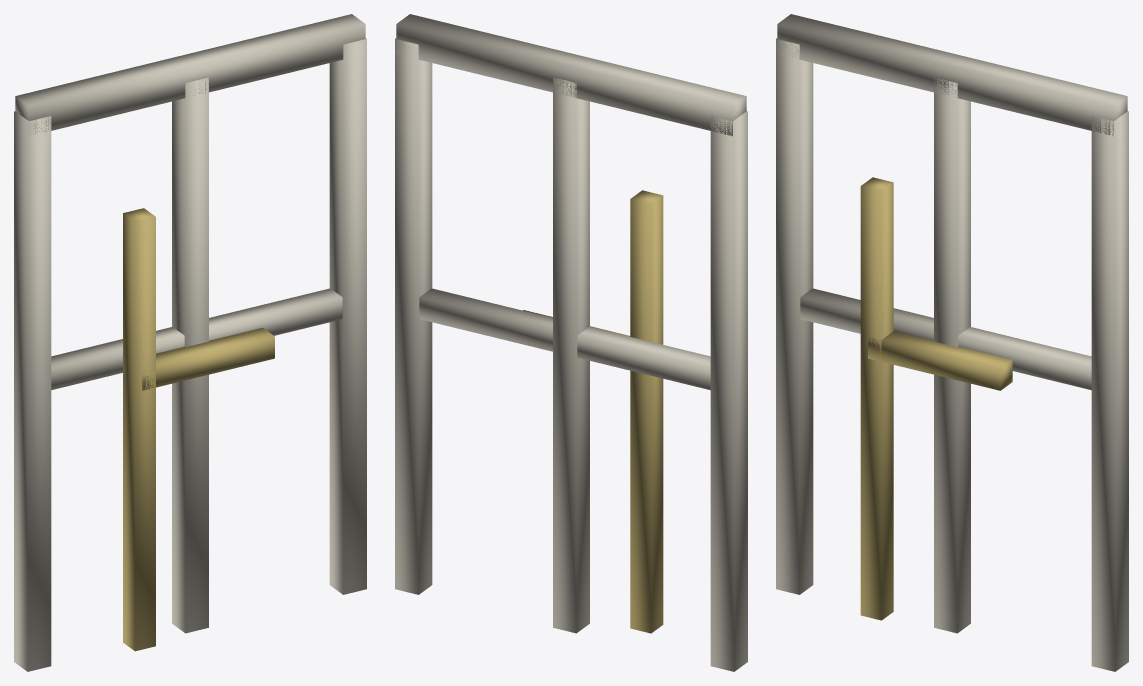
Rendered from civic_gate_l60_h100.glb.
The picture shows the model from 3 angles, left to right: view 1: azimuth 30°, elevation 25°; view 2: azimuth 150°, elevation 25°; view 3: azimuth 330°, elevation 25°; orthographic projection.
Visible parts, largest first — view 1: world; view 2: world; view 3: world.
Boxes of the visible parts, x1,y1,x2,y2 form: world: (14, 14, 366, 671); world: (395, 14, 747, 671); world: (776, 14, 1128, 671).
Bounding box in the file's own units: 0.645 × 1.03 × 0.0825.
